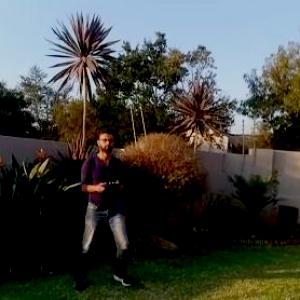follow: (61, 125, 142, 297)
